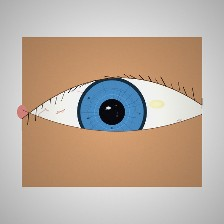pinguecula_lesion: (141, 91, 173, 117)
